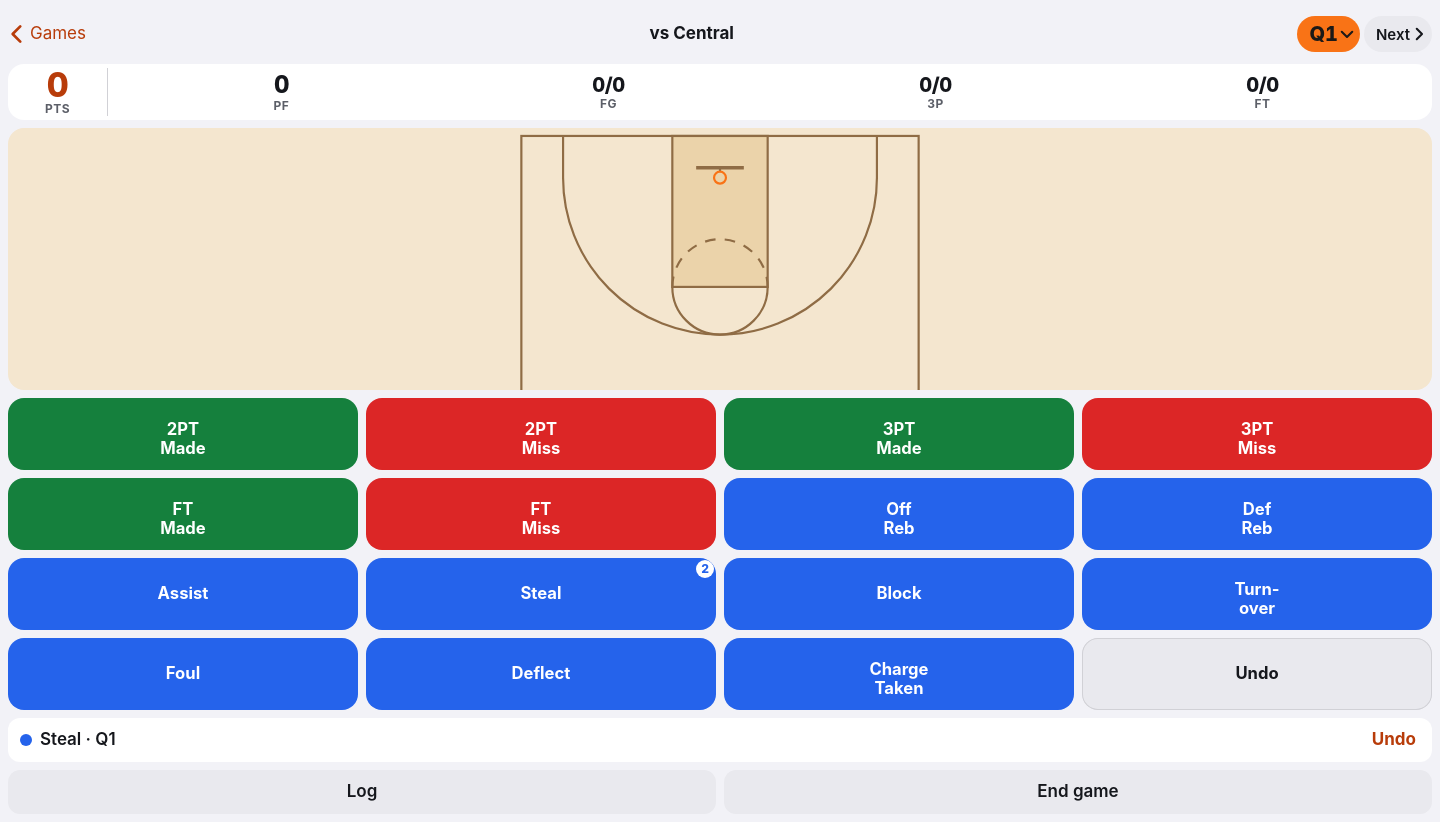
Test: TrackGameScreen › stops counting a stat the moment Undo takes it back, while its removal lands
Expected: the element named "Record a stat" is shown, top-left (8, 398), bottom-right (1432, 710)
Click the button with aria-label "Undo last stat" at (1257, 674), box top-left (1082, 638), bottom-right (1432, 710)
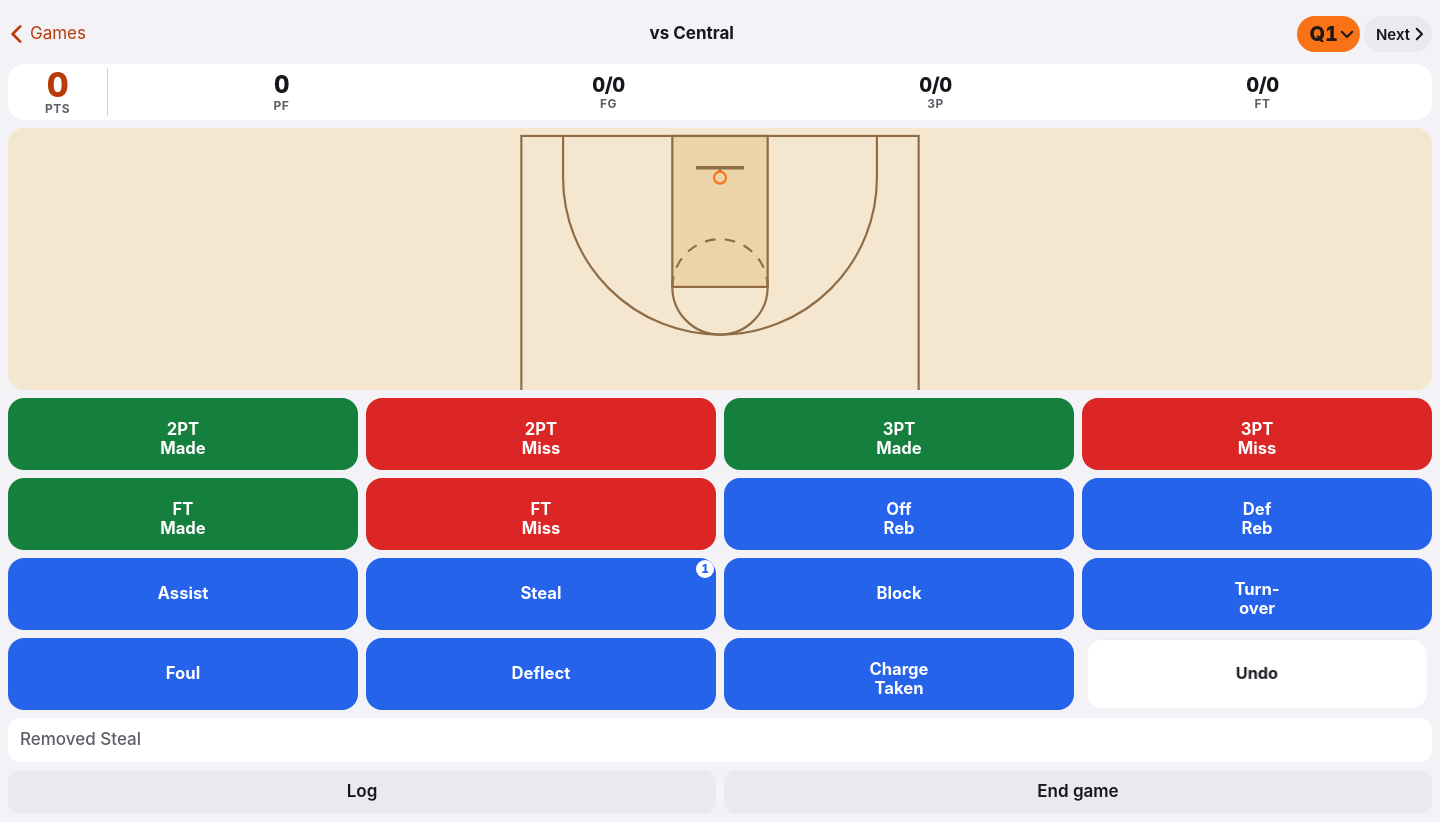
Result: the message named "Last action" reads "Removed Steal" at top-left (20, 729), bottom-right (141, 749)
